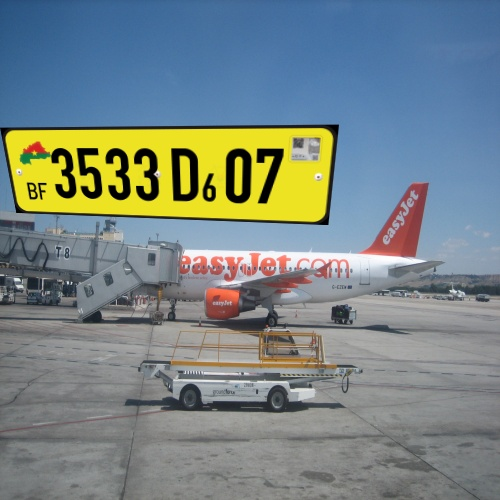plate: (1, 110, 346, 237)
